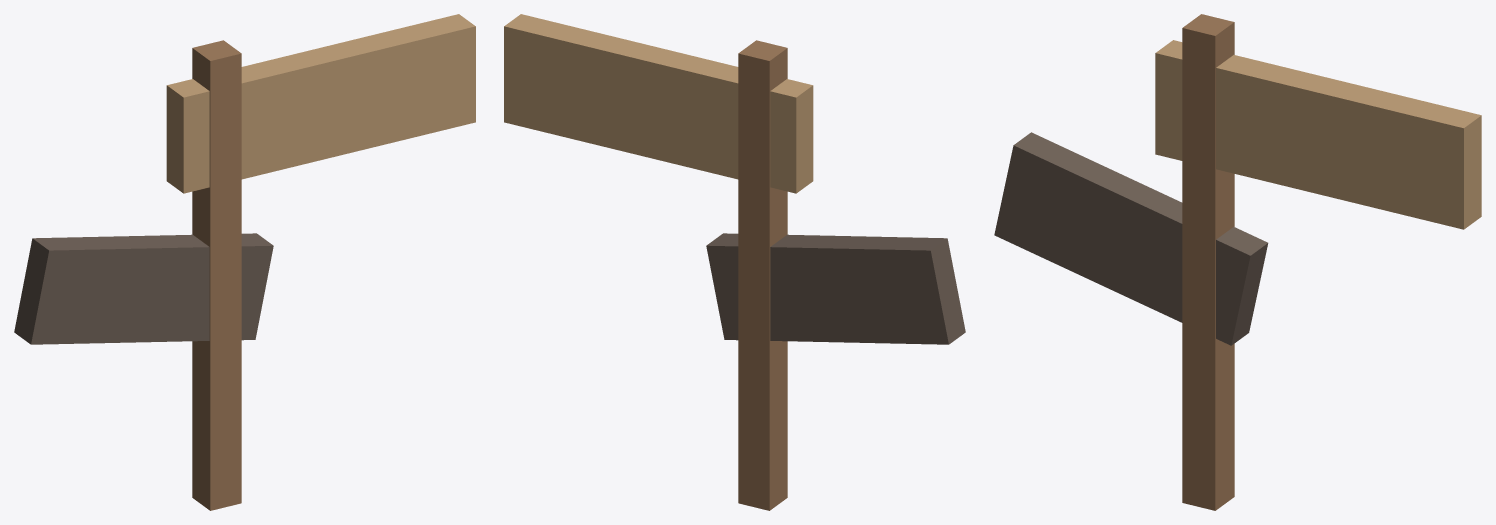
Rendered from signpost_crooked.glb.
3 views of the same model, side by side, from view 1: azimuth 30°, elevation 25°; view 2: azimuth 150°, elevation 25°; view 3: azimuth 330°, elevation 25° (orthographic). The views are drawn at different scales.
Parts seen in each view (by area): view 1: signpost_crooked; view 2: signpost_crooked; view 3: signpost_crooked.
Part boxes in pixels (x1,y1,x2,y2): signpost_crooked: (14, 14, 475, 510); signpost_crooked: (504, 14, 965, 510); signpost_crooked: (994, 14, 1481, 510).
Size of the model in its own units: 2.13 by 2.06 by 0.15.
